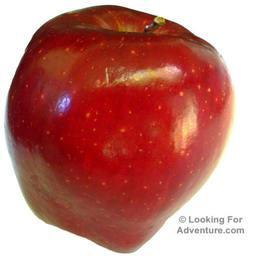apple: (1, 5, 236, 254)
